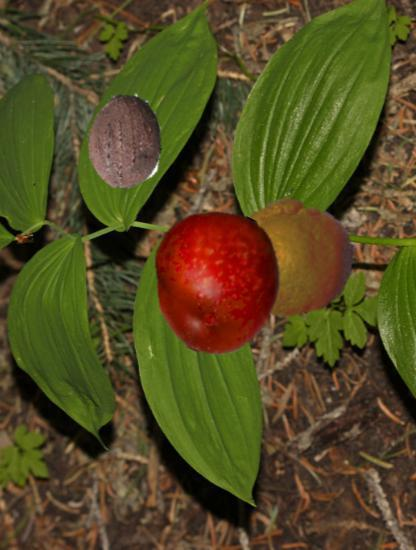Cocos: (75, 91, 175, 191)
Mandarine: (221, 190, 356, 325)
Nectarine: (143, 209, 287, 353)
